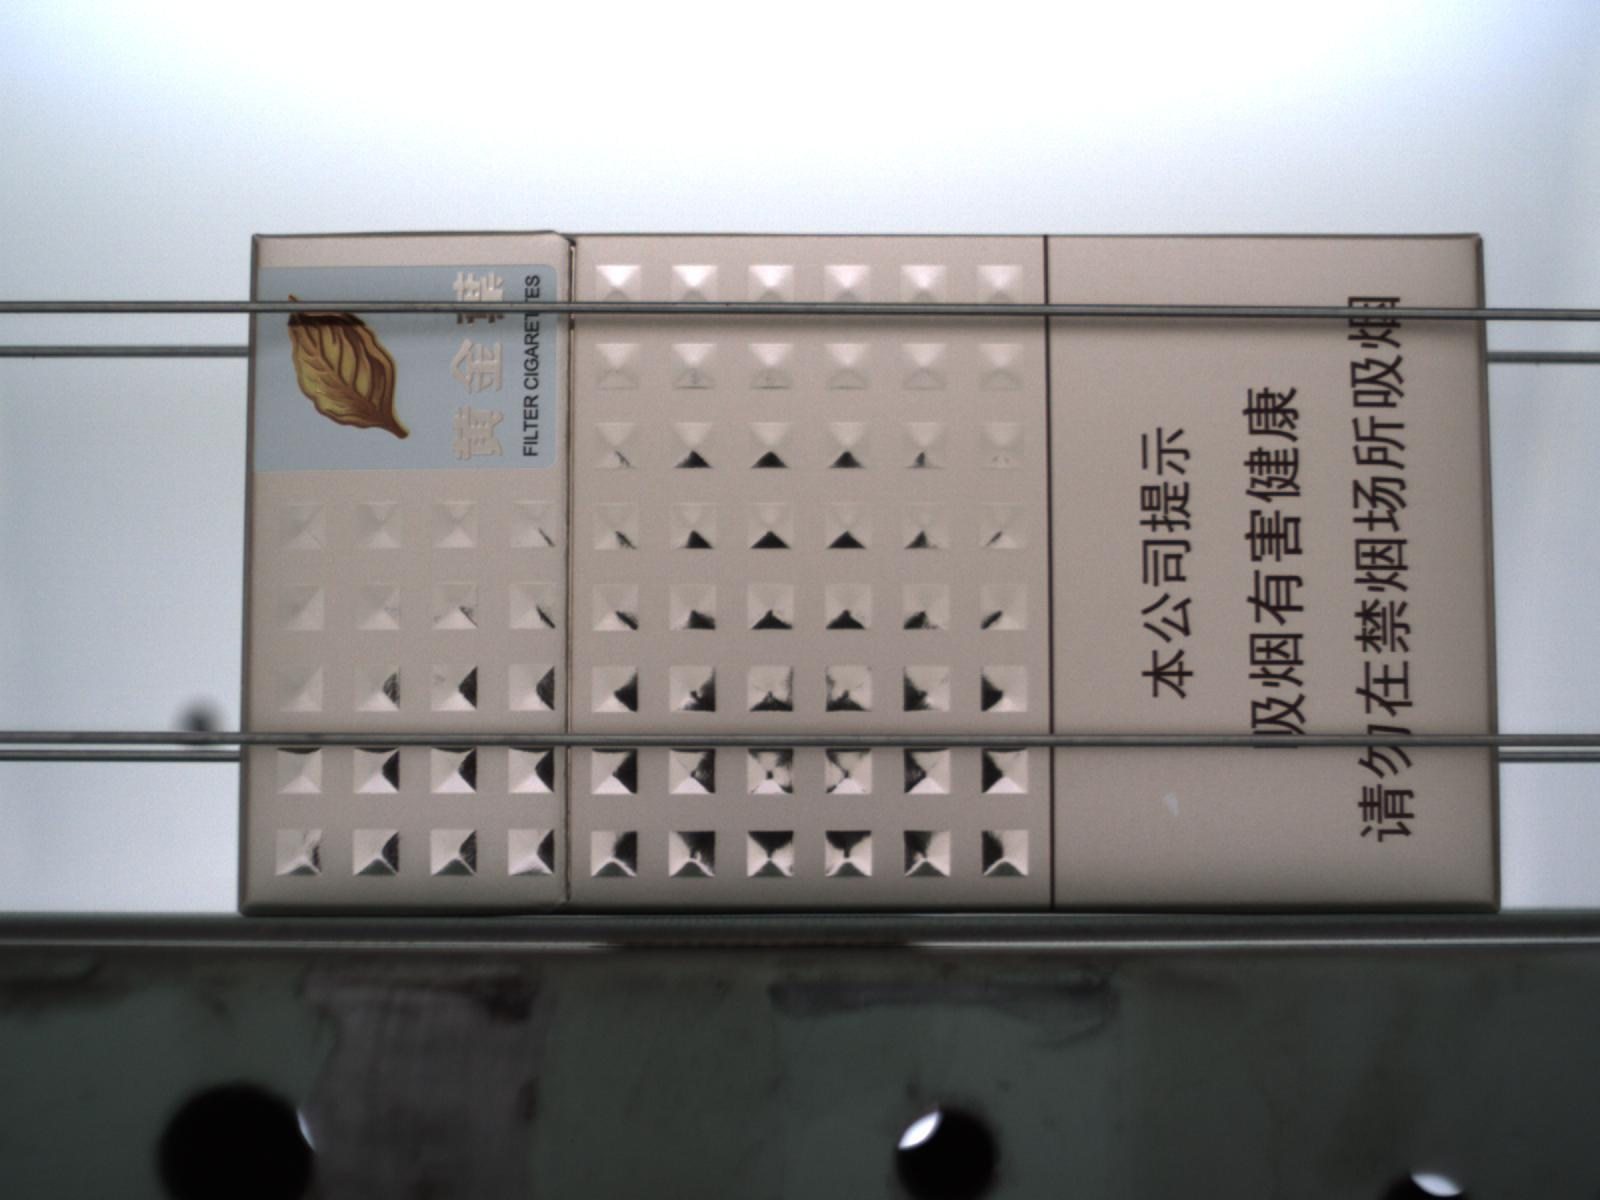dirtyPrint: (1165, 794, 1180, 811)
